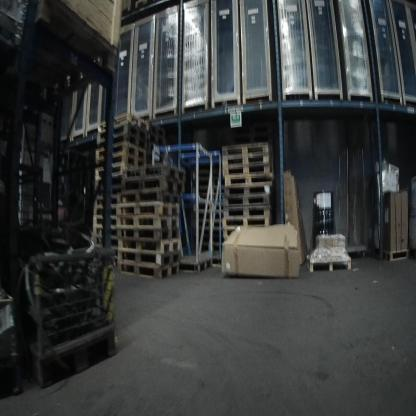pallet: (36, 1, 116, 77), (118, 259, 181, 278), (121, 176, 186, 194), (118, 250, 181, 267), (122, 166, 186, 182), (309, 249, 351, 273), (119, 190, 181, 206), (98, 115, 149, 134), (118, 237, 181, 252), (96, 128, 149, 145), (118, 222, 181, 236), (95, 145, 146, 162), (119, 202, 180, 215), (95, 156, 144, 172), (221, 141, 270, 157), (220, 174, 274, 188), (96, 135, 146, 150), (122, 216, 180, 228), (222, 192, 270, 206), (119, 229, 180, 240), (222, 163, 274, 175), (222, 154, 269, 167), (221, 217, 270, 229), (224, 206, 271, 218), (225, 185, 271, 197), (94, 167, 122, 180), (93, 204, 119, 216), (383, 249, 409, 261), (95, 179, 122, 190), (93, 216, 119, 227), (92, 226, 118, 237), (95, 239, 118, 249), (104, 244, 118, 259), (93, 197, 120, 204), (93, 191, 122, 197), (223, 229, 233, 238)
stillage: (29, 245, 118, 390)
